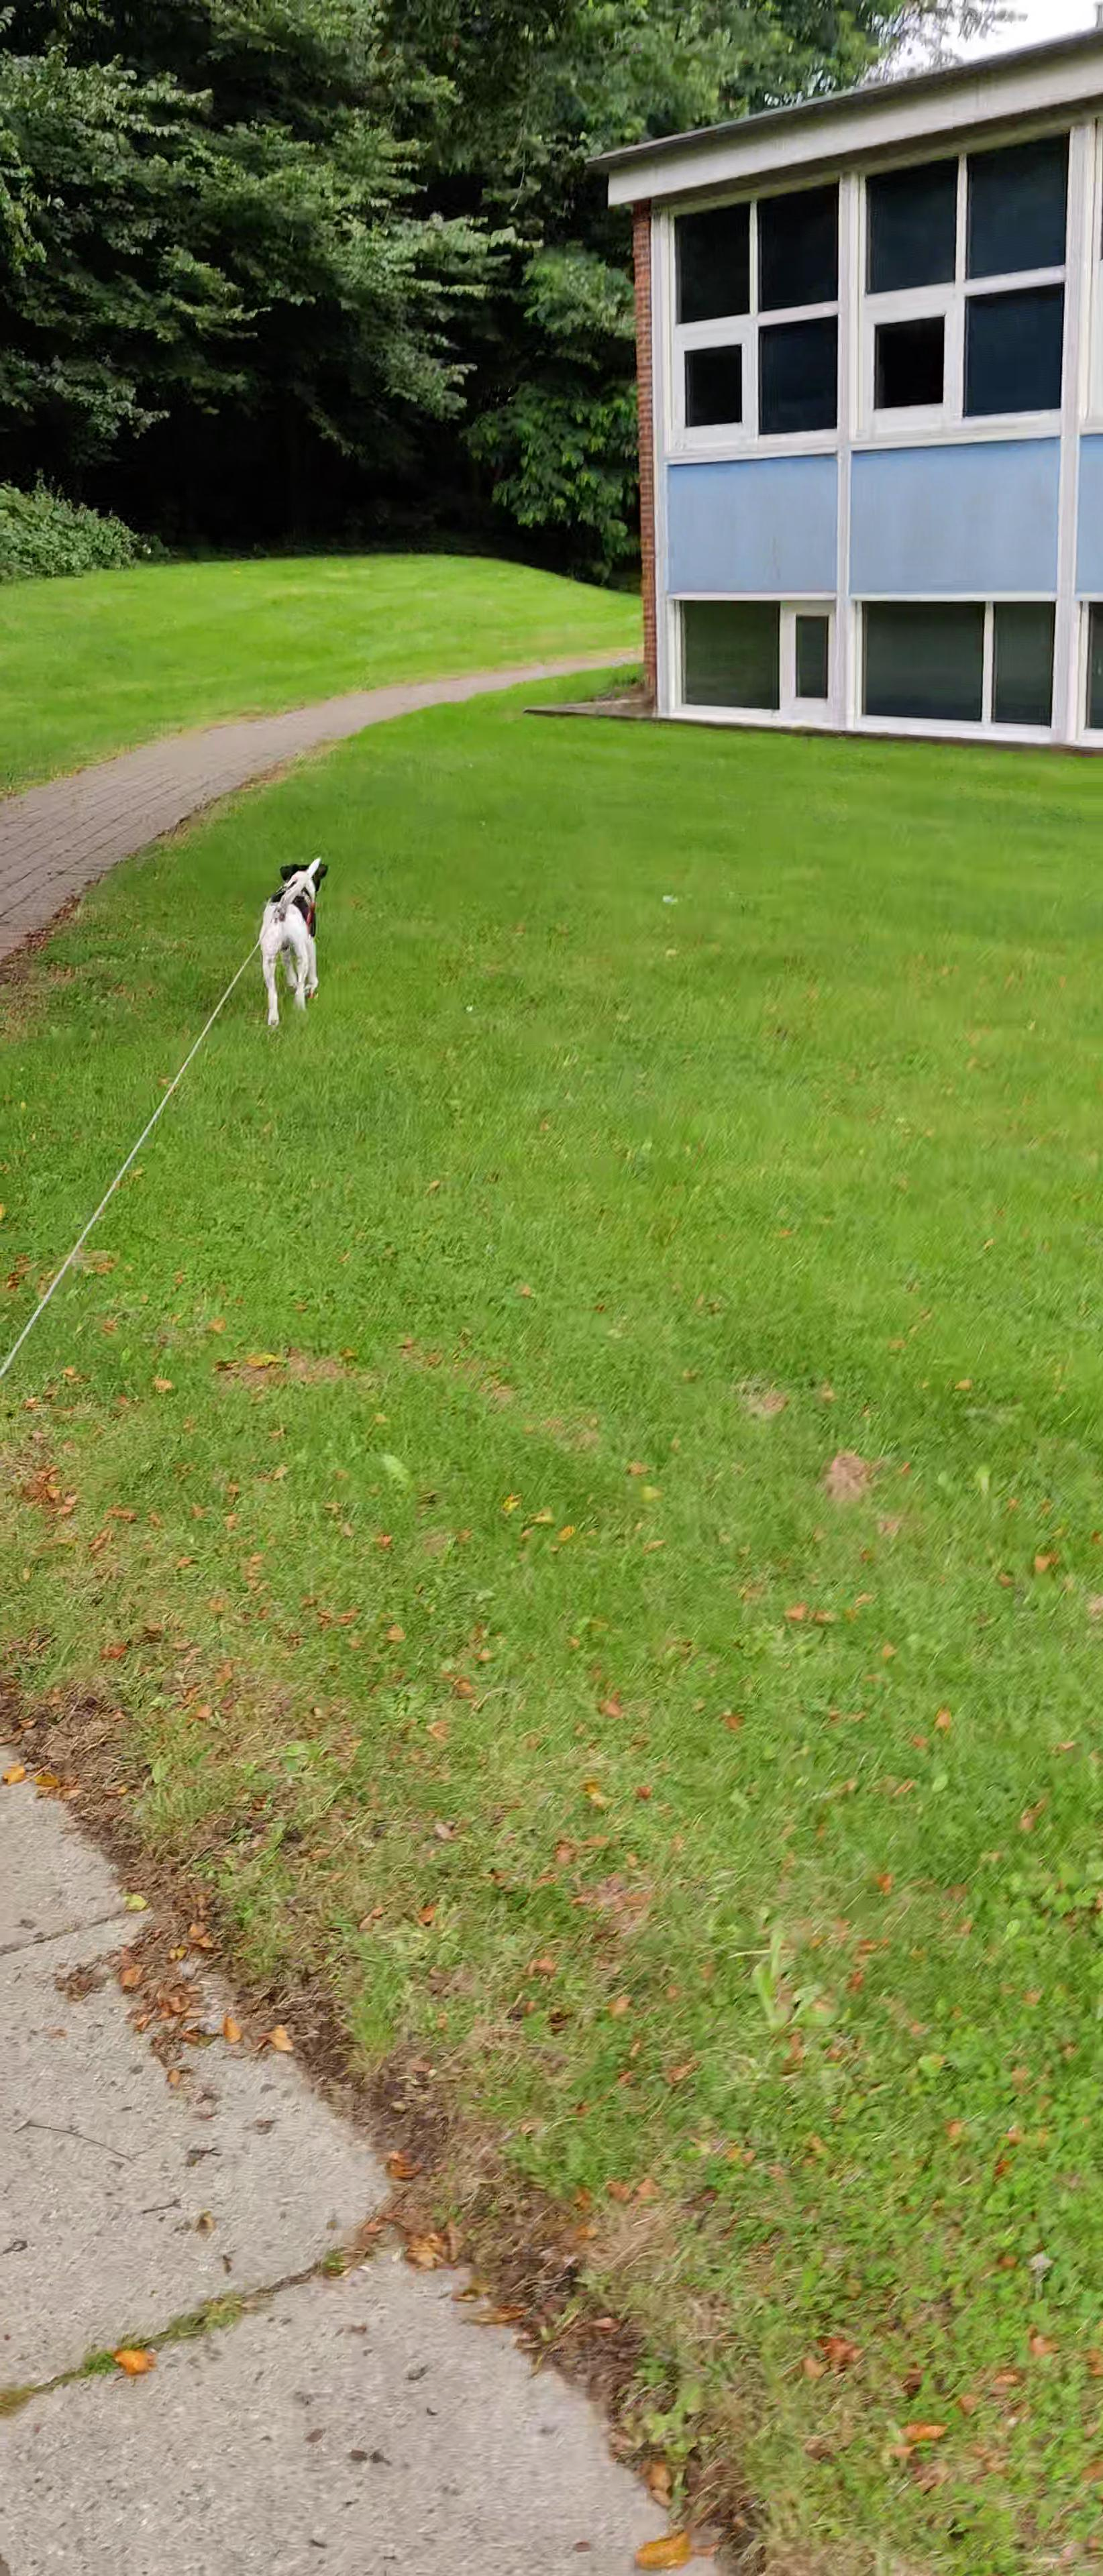Dog: (252, 849, 332, 1028)
